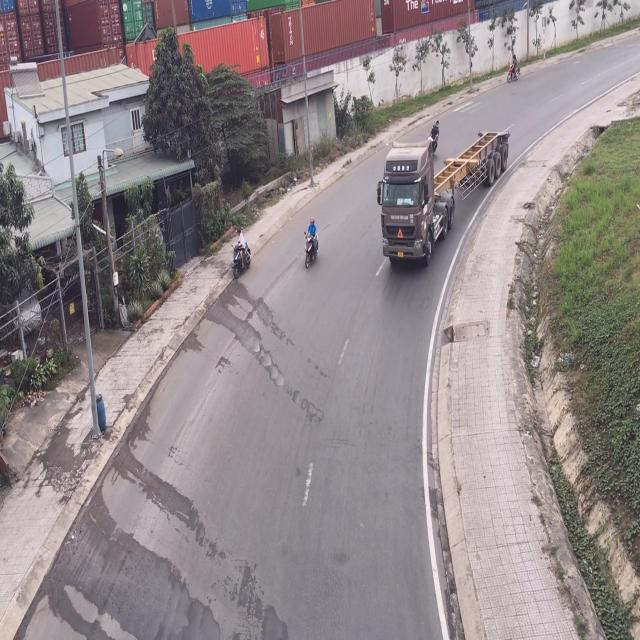motorbike: (232, 230, 252, 280), (303, 218, 320, 273), (508, 47, 523, 86), (428, 120, 440, 152)
truck: (379, 133, 512, 269)
